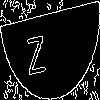Z: (25, 25, 46, 76)
